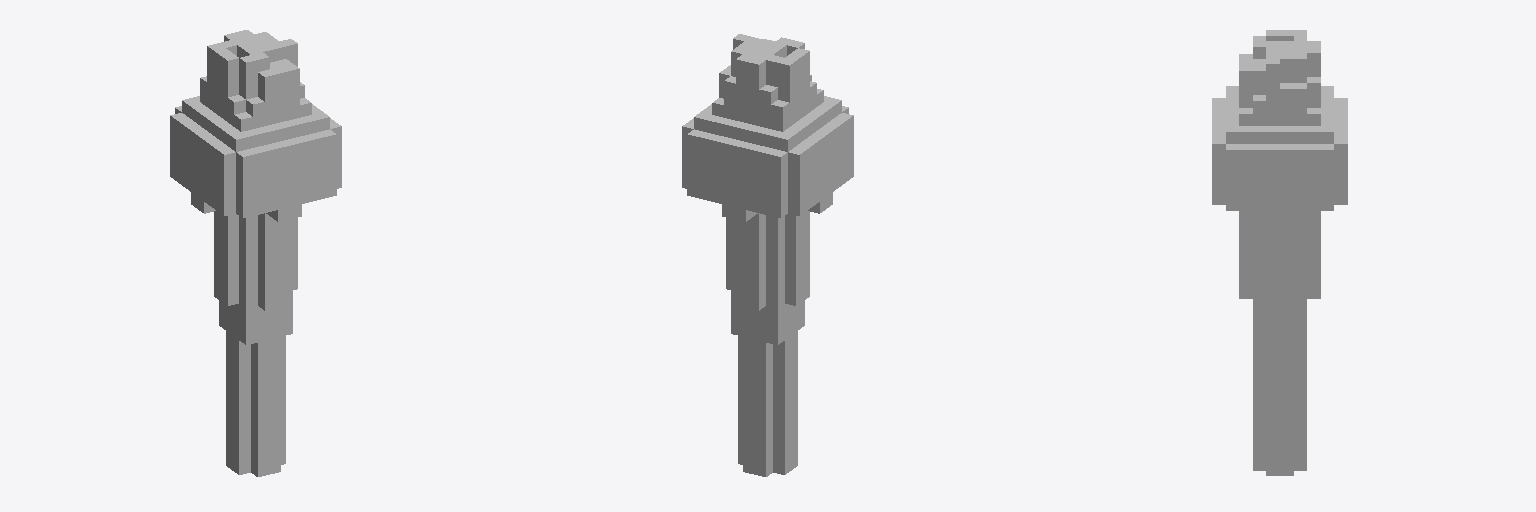
Rendered from Torch.obj.
The picture shows the model from 3 angles: view 1: azimuth 30°, elevation 25°; view 2: azimuth 150°, elevation 25°; view 3: azimuth 270°, elevation 25°; orthographic projection.
Parts seen in each view (by area): view 1: object 1; view 2: object 1; view 3: object 1.
Boxes of the visible parts, x1=… form: object 1: x1=170, y1=30, x2=341, y2=476; object 1: x1=682, y1=34, x2=853, y2=476; object 1: x1=1212, y1=30, x2=1347, y2=475.
Size of the model in its own units: 1 by 3.4 by 1.